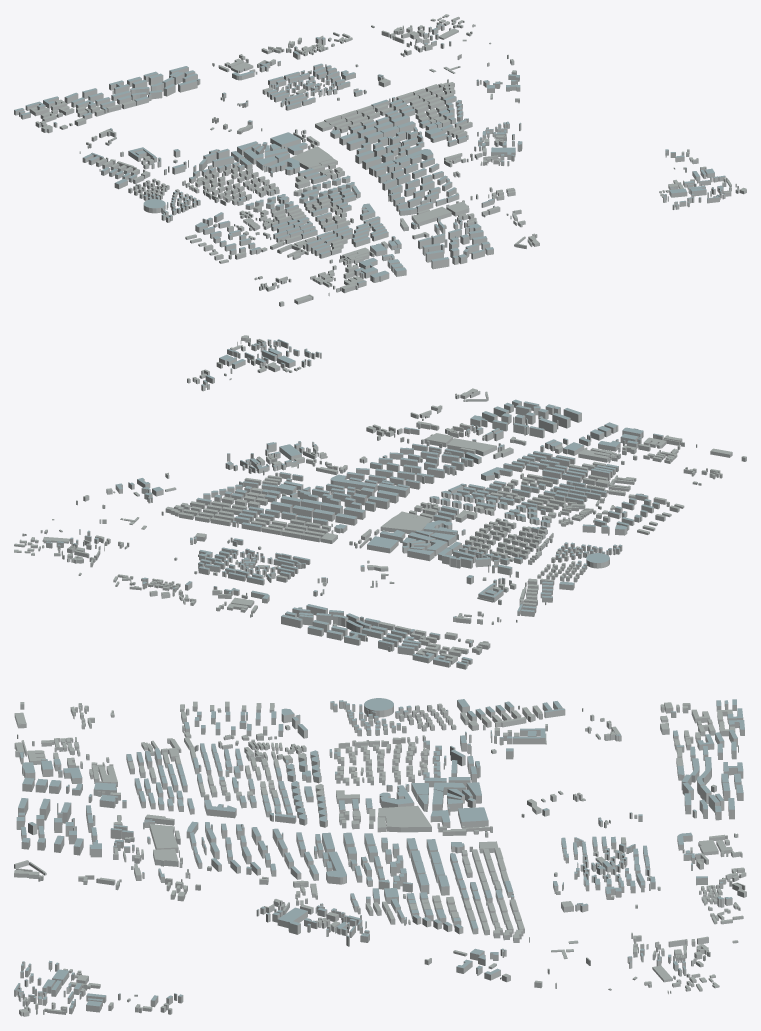
File: far.glb
The picture shows the model from 3 angles, top to bottom: view 1: azimuth 30°, elevation 25°; view 2: azimuth 150°, elevation 25°; view 3: azimuth 270°, elevation 25°; orthographic projection. The views are drawn at different scales.
Size of the model in its own units: 2128 by 36 by 2112.
